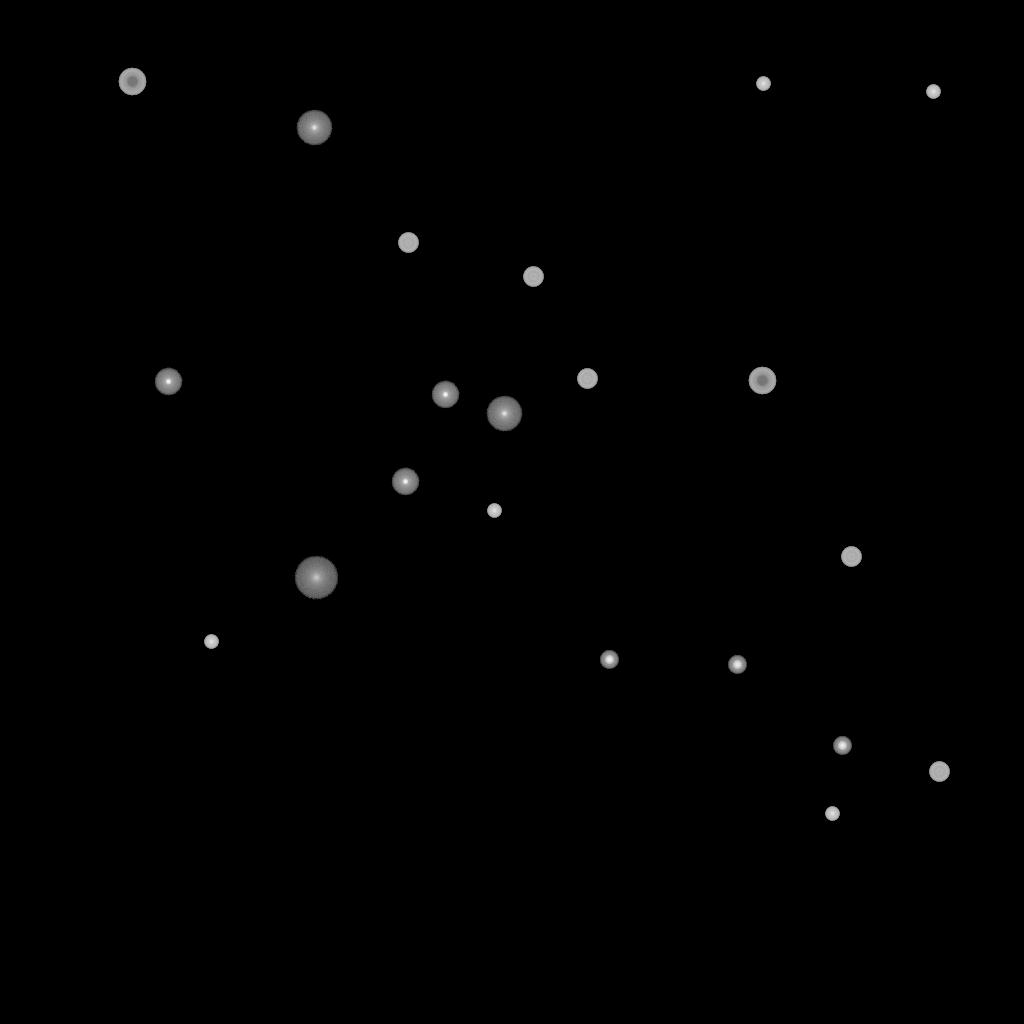depth:-10: (431, 381, 459, 409), (154, 368, 182, 396), (391, 468, 419, 496)
depth:-20: (833, 737, 851, 755), (600, 651, 618, 669), (728, 656, 746, 674)
depth:-30: (926, 85, 940, 99), (204, 635, 218, 649), (487, 504, 501, 518), (756, 77, 770, 91), (825, 807, 839, 821)
depth:-40: (523, 267, 543, 287), (929, 762, 949, 782), (577, 369, 597, 389), (398, 233, 418, 253), (841, 547, 861, 567)
depth:-50: (748, 367, 776, 395), (118, 68, 146, 96)
depth:0: (296, 110, 332, 146), (486, 396, 522, 432)
depth:10: (294, 556, 338, 600)
